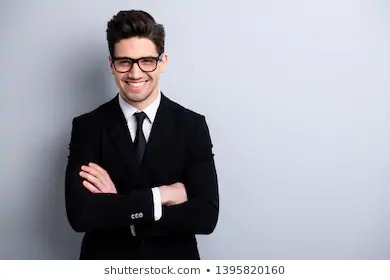F_M_suit jacket: (60, 87, 224, 258)
F_tie: (126, 111, 151, 163)
